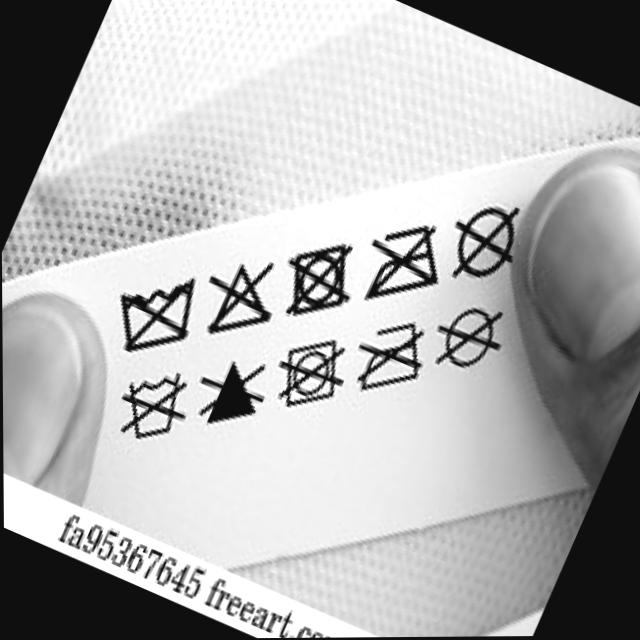DN_bleach: (206, 257, 277, 339), (200, 355, 268, 425)
DN_dry_clean: (450, 192, 521, 286), (434, 300, 504, 378)
DN_iron: (363, 217, 444, 308), (356, 318, 429, 396)
DN_tumble_dry: (288, 236, 356, 317), (279, 335, 348, 413)
DN_wash: (119, 271, 199, 350), (122, 369, 190, 440)
